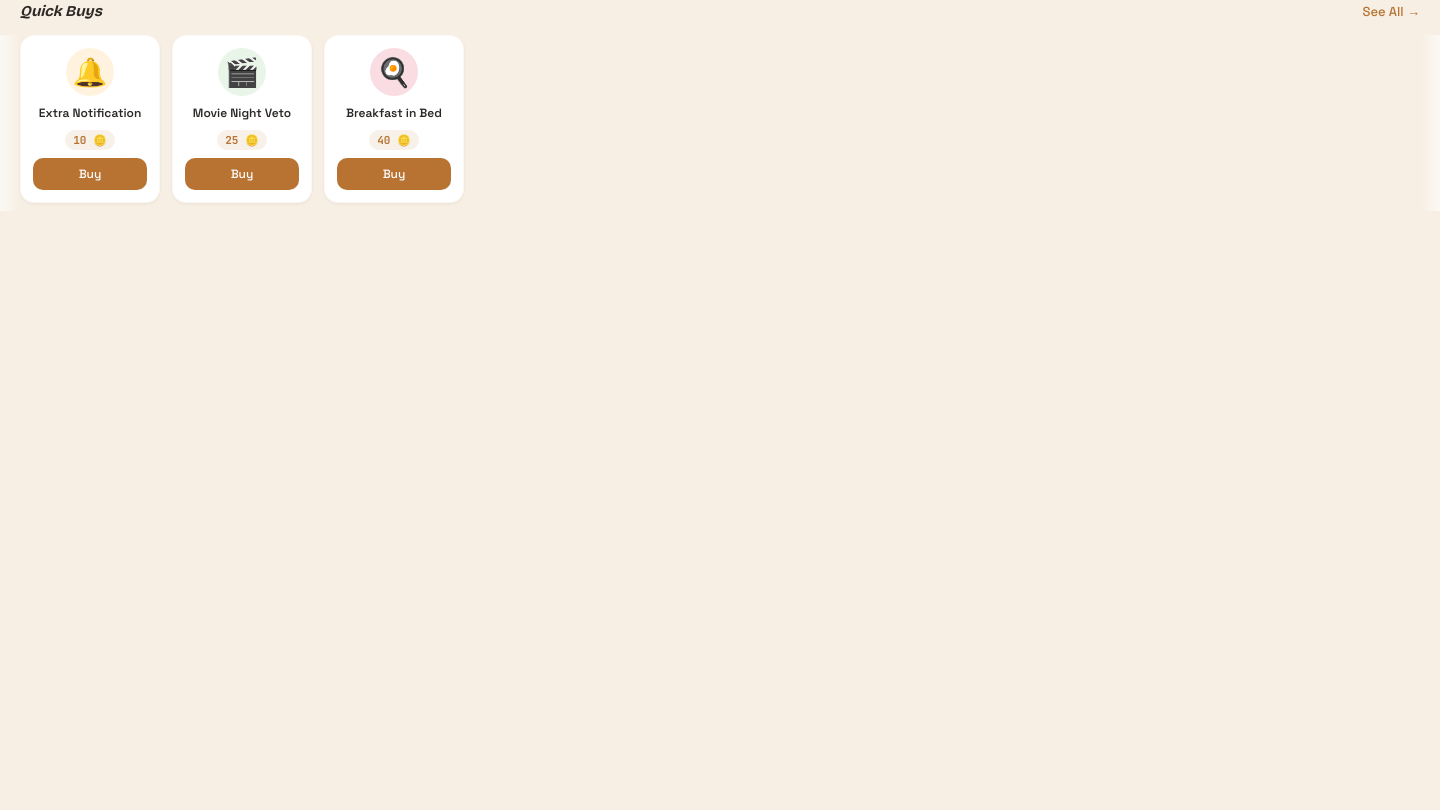
HomeMarketplaceRow › clicking buy button on an item card opens the purchase modal
Step 1. Click the button with test id "buy-button" below "10" → (90, 174), box [33,158,147,190]
Wait 100 ms
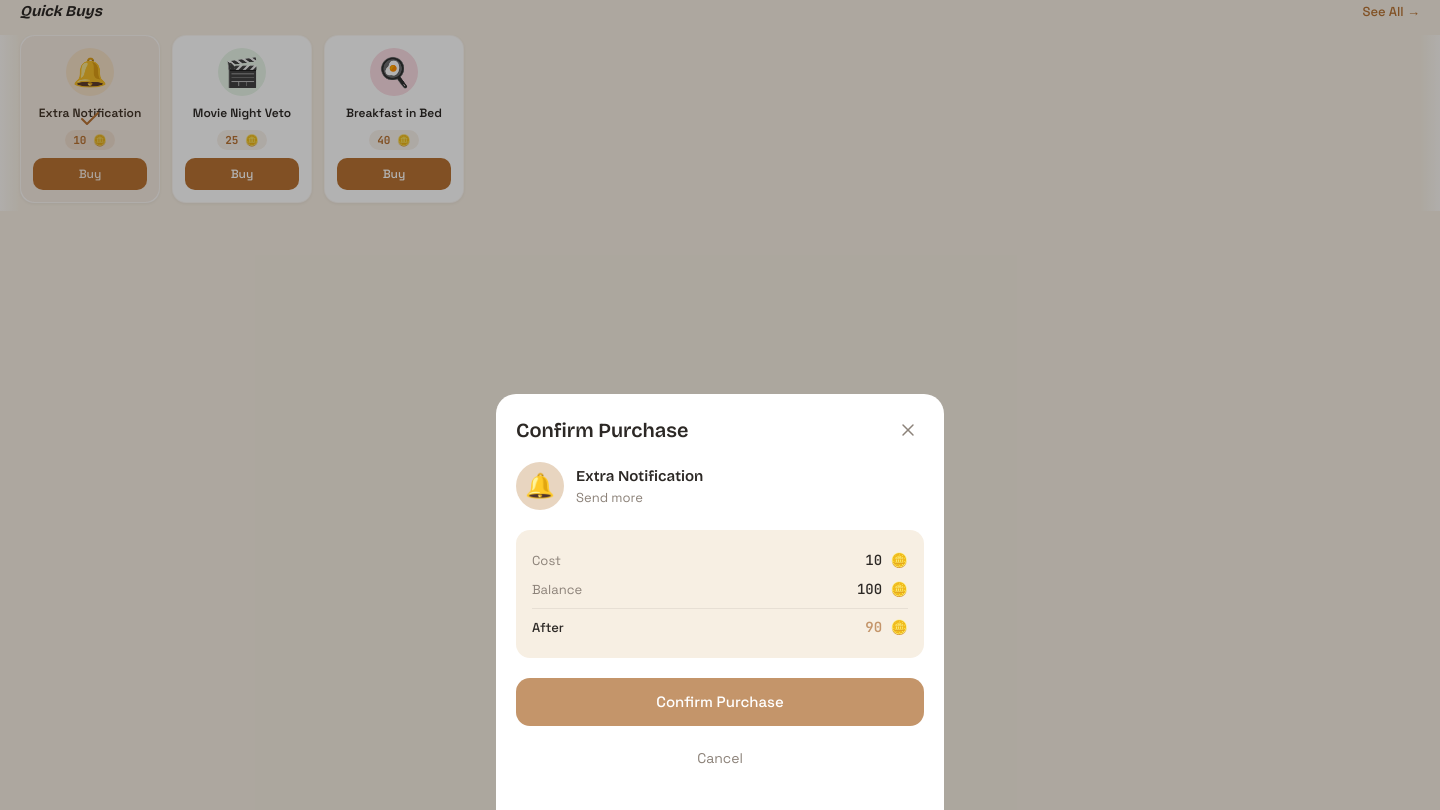
Result: the dialog with test id "purchase-dialog" is shown at [496,394,944,809]
